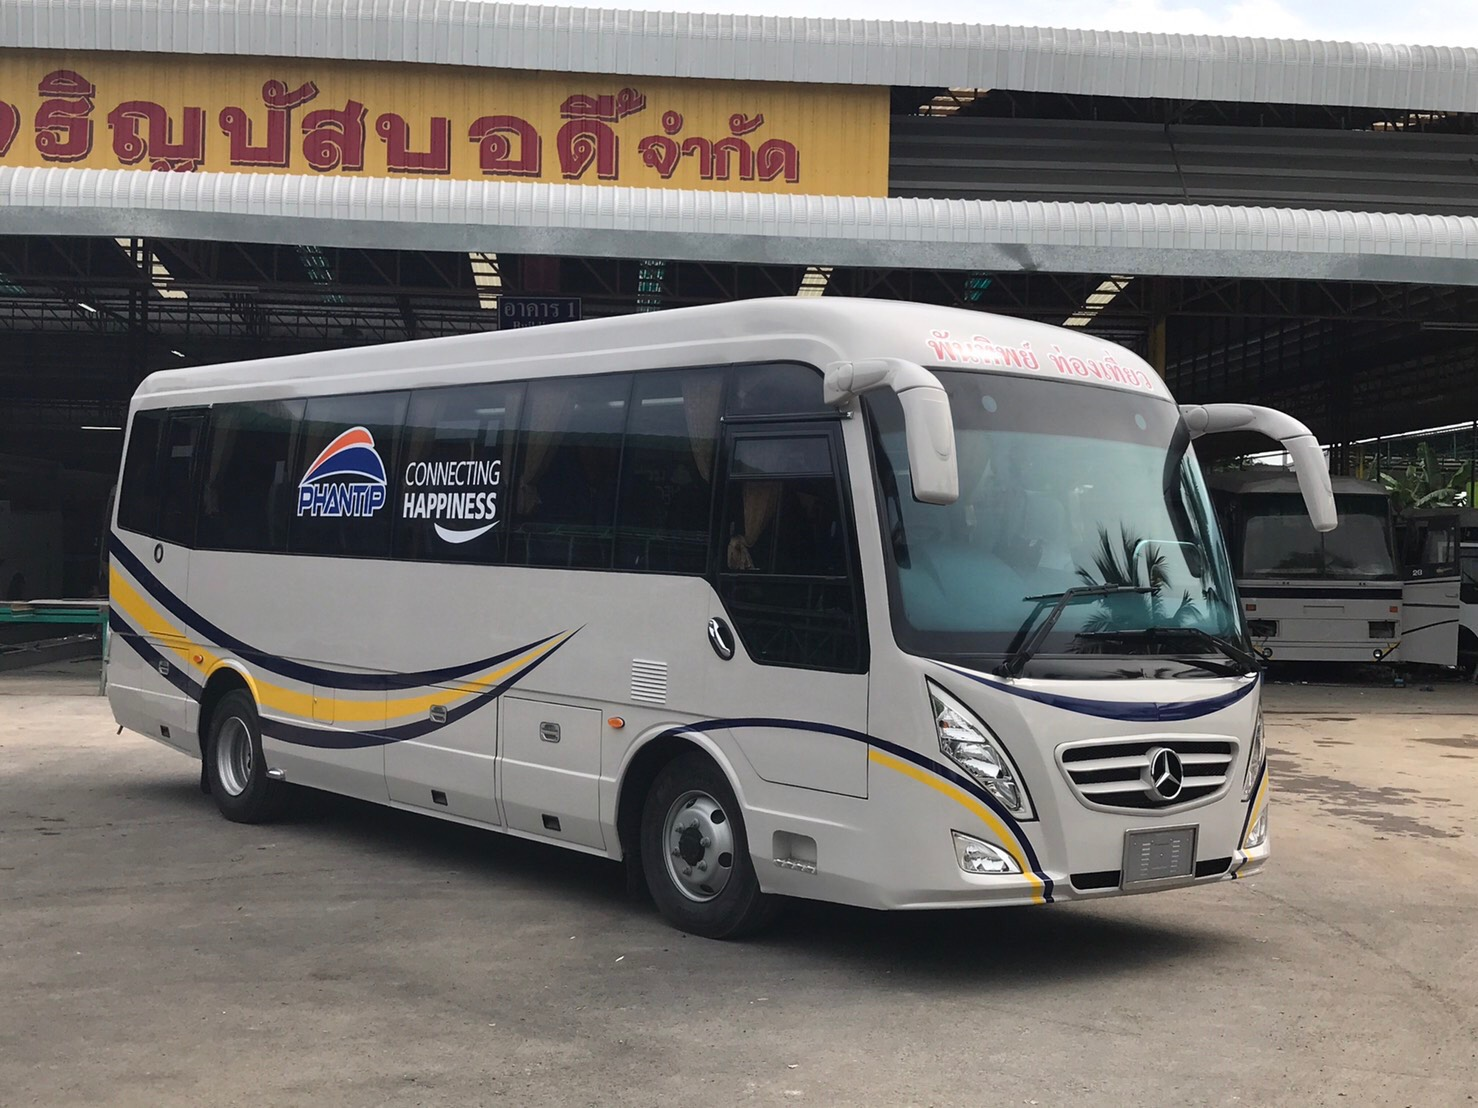bus: (105, 294, 1273, 933)
